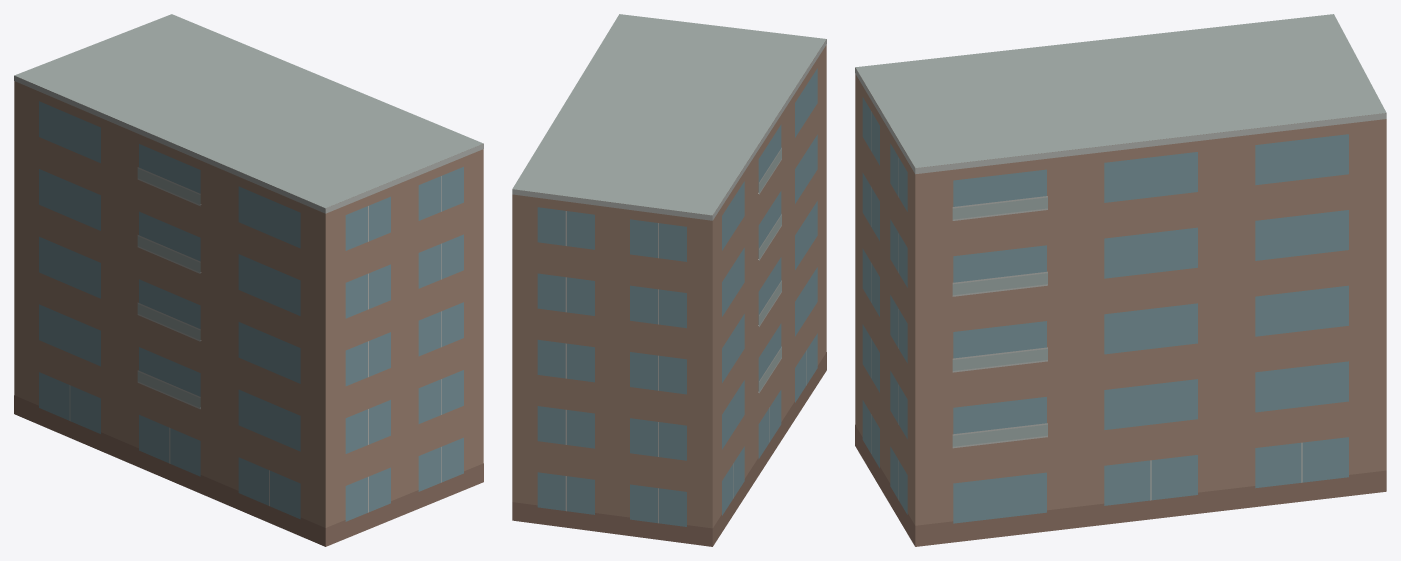
The model's file is survey-upis-32579380.glb.
The picture shows the model from 3 angles, left to right: view 1: azimuth 30°, elevation 25°; view 2: azimuth 150°, elevation 25°; view 3: azimuth 270°, elevation 25°; orthographic projection. The views are drawn at different scales.
Parts seen in each view (by area): view 1: survey-upis-32579380.tmp; view 2: survey-upis-32579380.tmp; view 3: survey-upis-32579380.tmp.
Part boxes in pixels (left/top/right/bottom): survey-upis-32579380.tmp: left=14, top=14, right=483, bottom=546; survey-upis-32579380.tmp: left=512, top=14, right=826, bottom=546; survey-upis-32579380.tmp: left=855, top=14, right=1386, bottom=546.
Bounding box in the file's own units: 13.32 × 15.25 × 19.41.
